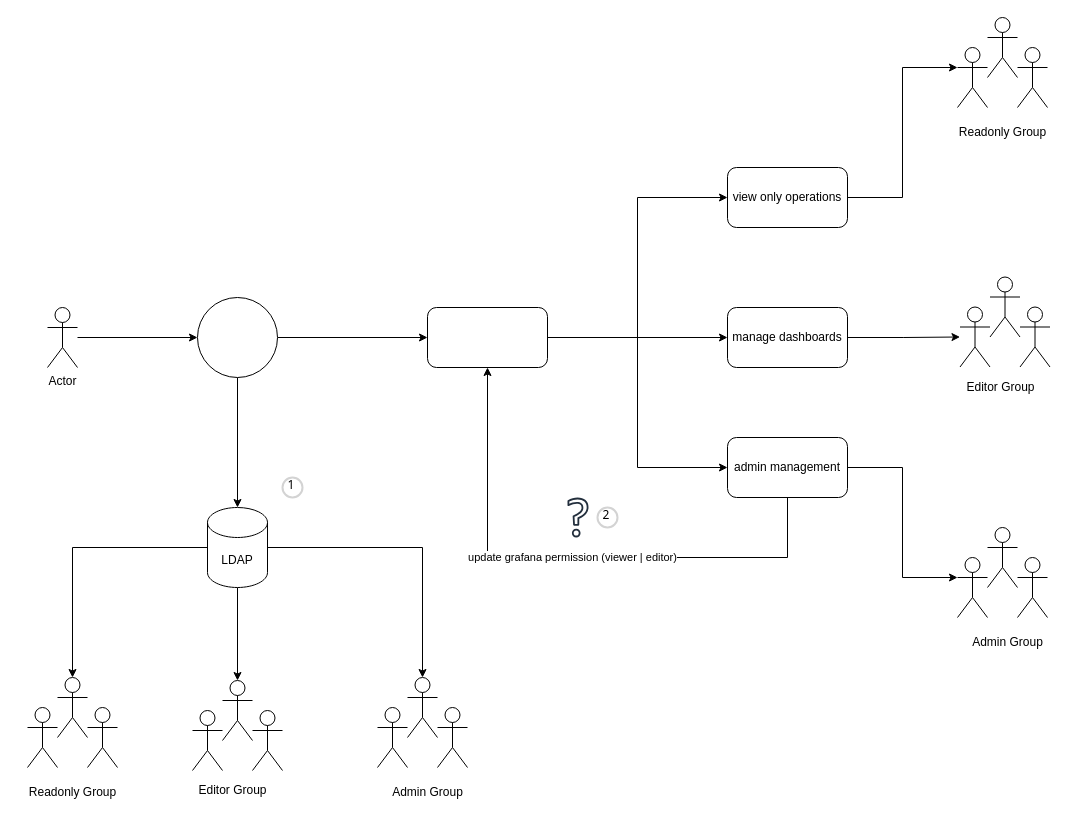
Some shapes in this 1074 by 825 pixel diagram are drawn without their labels. Here are the shapes that lost their labels. From the top down, the centre of each, then its label:
At point (237, 337): "login".
At point (487, 337): "grafana instance".
